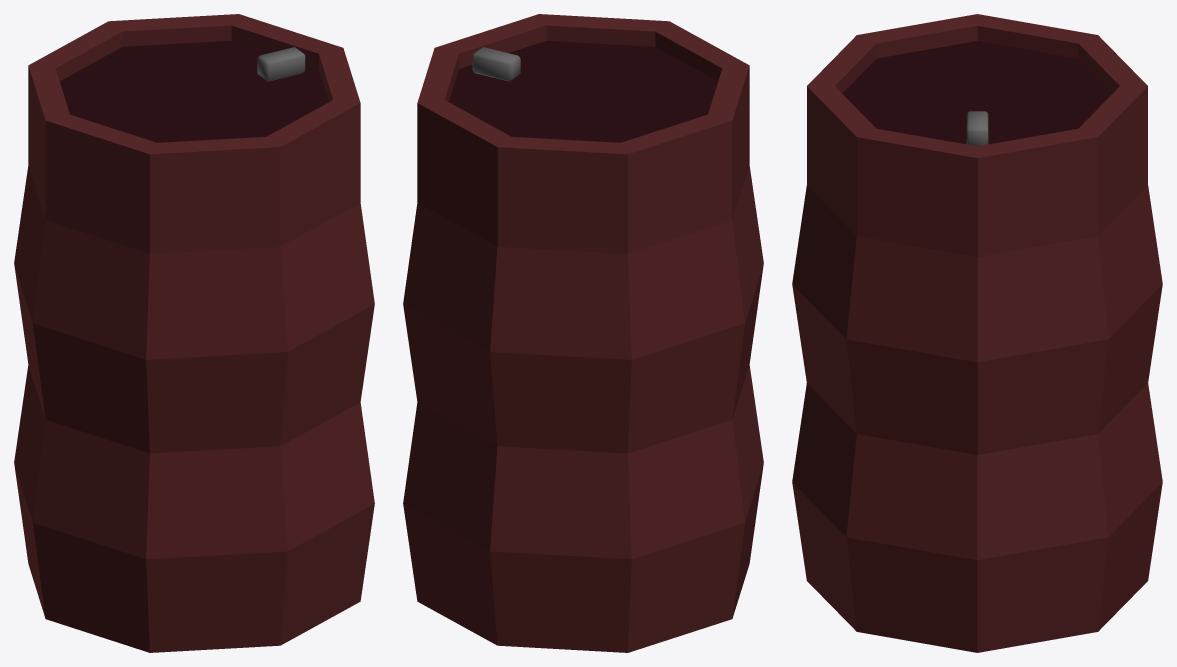
Rendered from barrel_red.fbx.
The picture shows the model from 3 angles, left to right: view 1: azimuth 30°, elevation 25°; view 2: azimuth 150°, elevation 25°; view 3: azimuth 270°, elevation 25°; orthographic projection.
Visible parts, largest first — view 1: Cylinder, Cube; view 2: Cylinder, Cube; view 3: Cylinder, Cube.
Part boxes in pixels (x1,y1,x2,y2): Cylinder: [14, 14, 374, 652]; Cube: [257, 47, 305, 81]; Cylinder: [403, 14, 763, 652]; Cube: [472, 47, 520, 81]; Cylinder: [792, 14, 1162, 652]; Cube: [966, 111, 988, 146].
Size of the model in its own units: 217 by 325 by 217.
